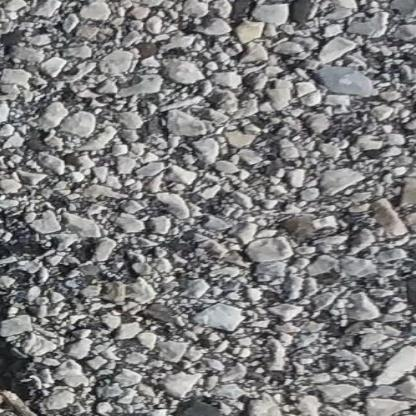Cracks: (0, 208, 68, 416)
